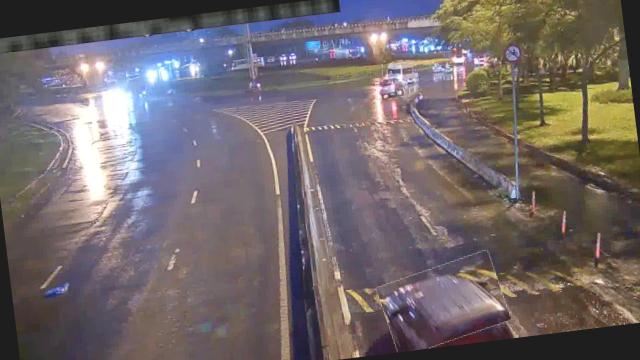Bus: (381, 61, 418, 84)
Car: (377, 253, 511, 353), (374, 75, 404, 100)
